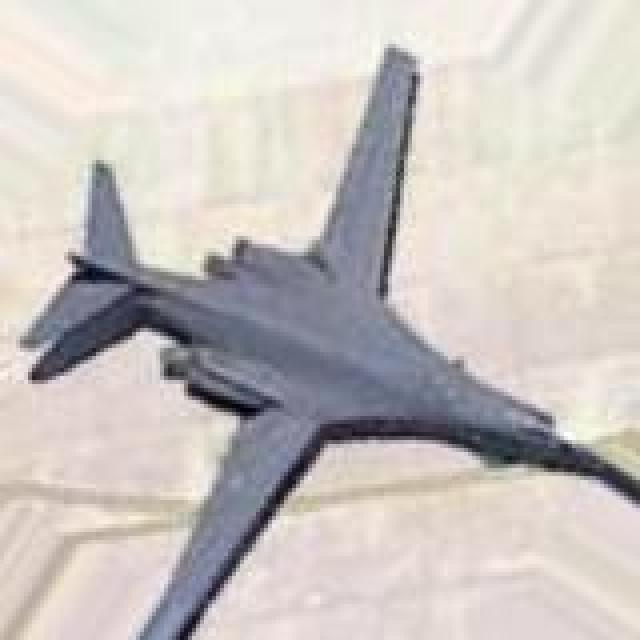B-1_TopDown: (16, 40, 636, 636)
